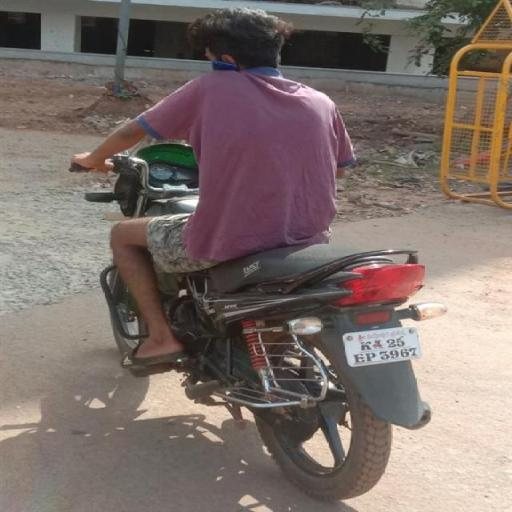numberplate: (340, 319, 426, 370)
using mobile: (206, 57, 248, 75)
